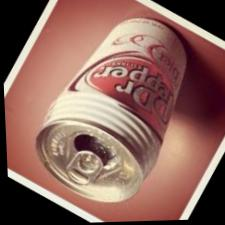metal: (33, 17, 187, 203)
